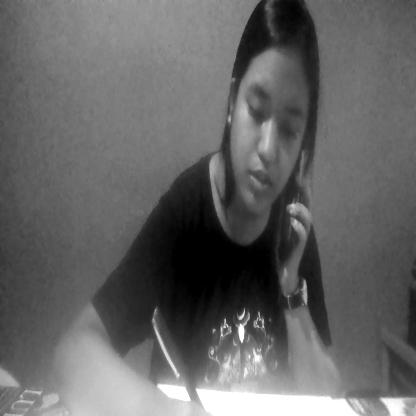Distracted: (233, 3, 312, 200)
